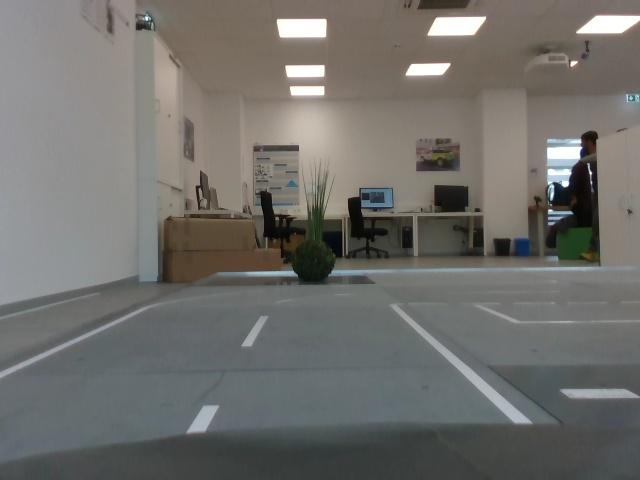potted plant: (297, 147, 336, 242), (294, 245, 337, 288)
